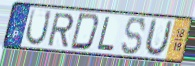D: (68, 12, 101, 52)
L: (96, 15, 117, 52)
R: (46, 12, 75, 48)
S: (120, 16, 147, 56)
U: (142, 17, 174, 58), (24, 8, 53, 47)
